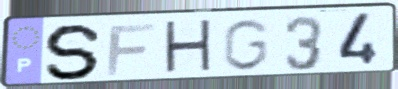3: (283, 13, 325, 73)
4: (335, 10, 386, 70)
F: (104, 21, 159, 78)
G: (220, 17, 273, 73)
H: (162, 17, 216, 77)
S: (42, 22, 107, 82)
